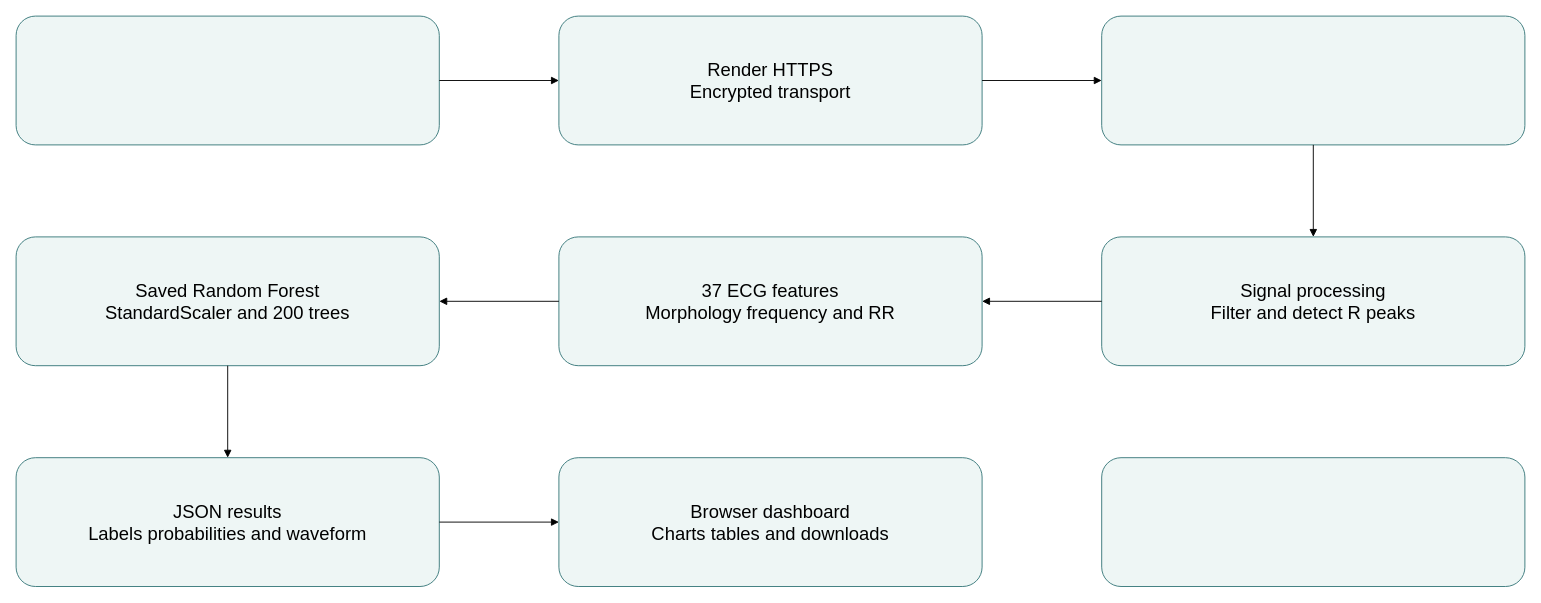
The diagram is 1541 pixels wide and 603 high, and some of its shapes have lost their labels. The centre of each missing label's shape, as x and y in pixels:
Browser CSV or TXT upload: point 227,80
Flask security Password session and CSRF: point 1313,80
Privacy and resource controls In-memory uploads and request limits: point 1313,521
